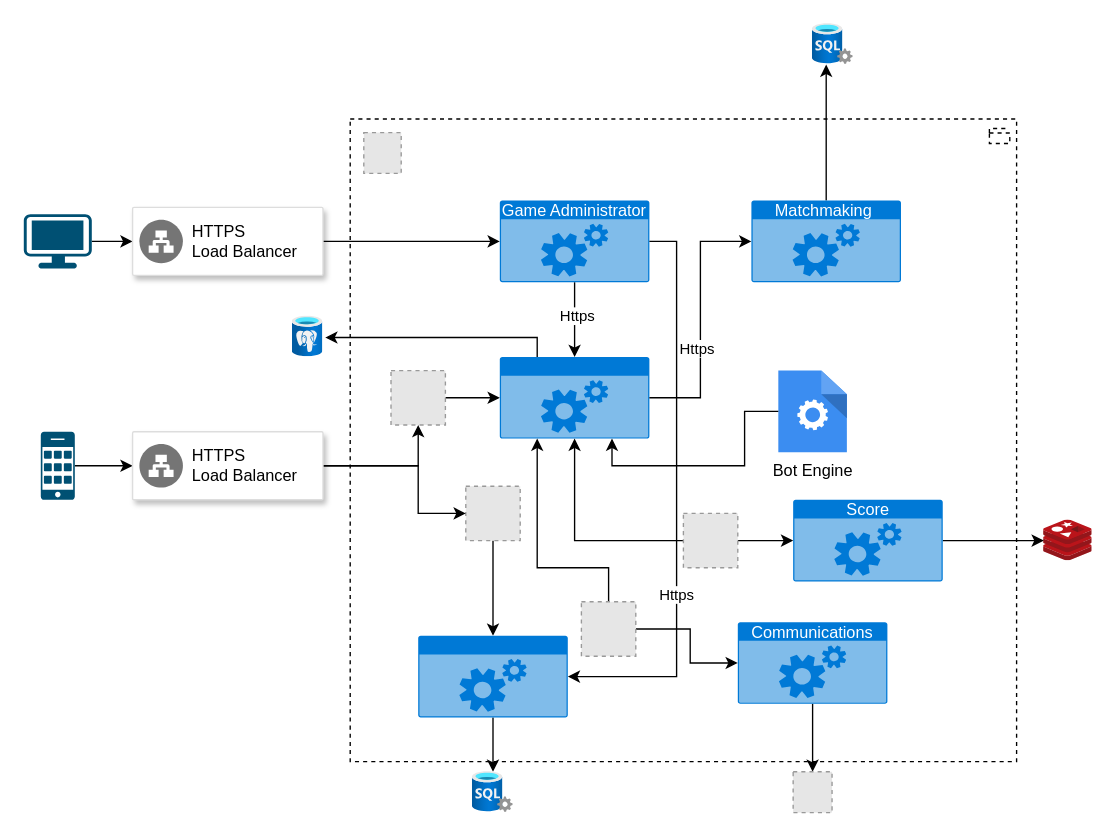
Some shapes in this 1115 by 836 pixel diagram are drawn without their labels. Grey dashed boxes stand in for pictures. The centre of each missing label's shape, as x and y in pixels:
"Authentications" belongs at point (492, 676).
"Game" belongs at point (574, 397).
